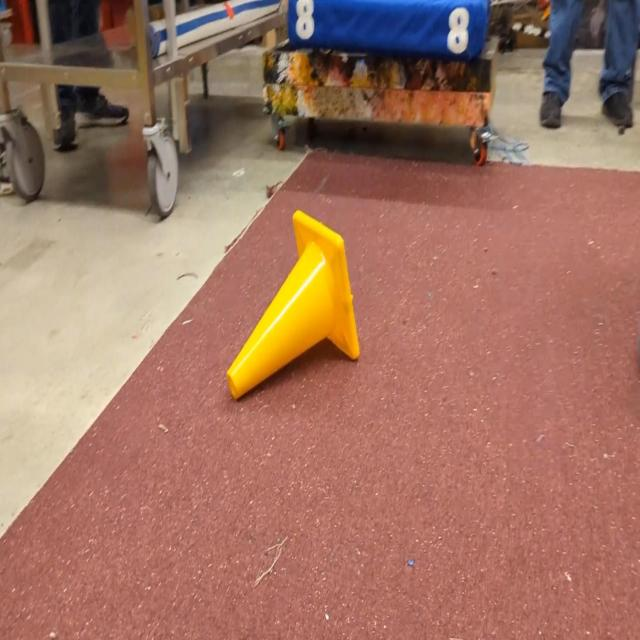frc_cone: (226, 208, 360, 402)
